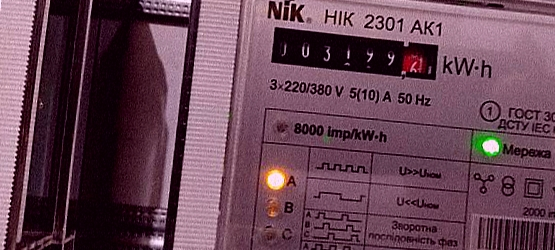0: (274, 36, 288, 58), (297, 38, 311, 59)
1: (341, 41, 352, 61)
3: (319, 42, 331, 62)
6: (407, 58, 418, 74)
9: (362, 43, 374, 64), (383, 47, 395, 67)
screen: (262, 21, 447, 88)
